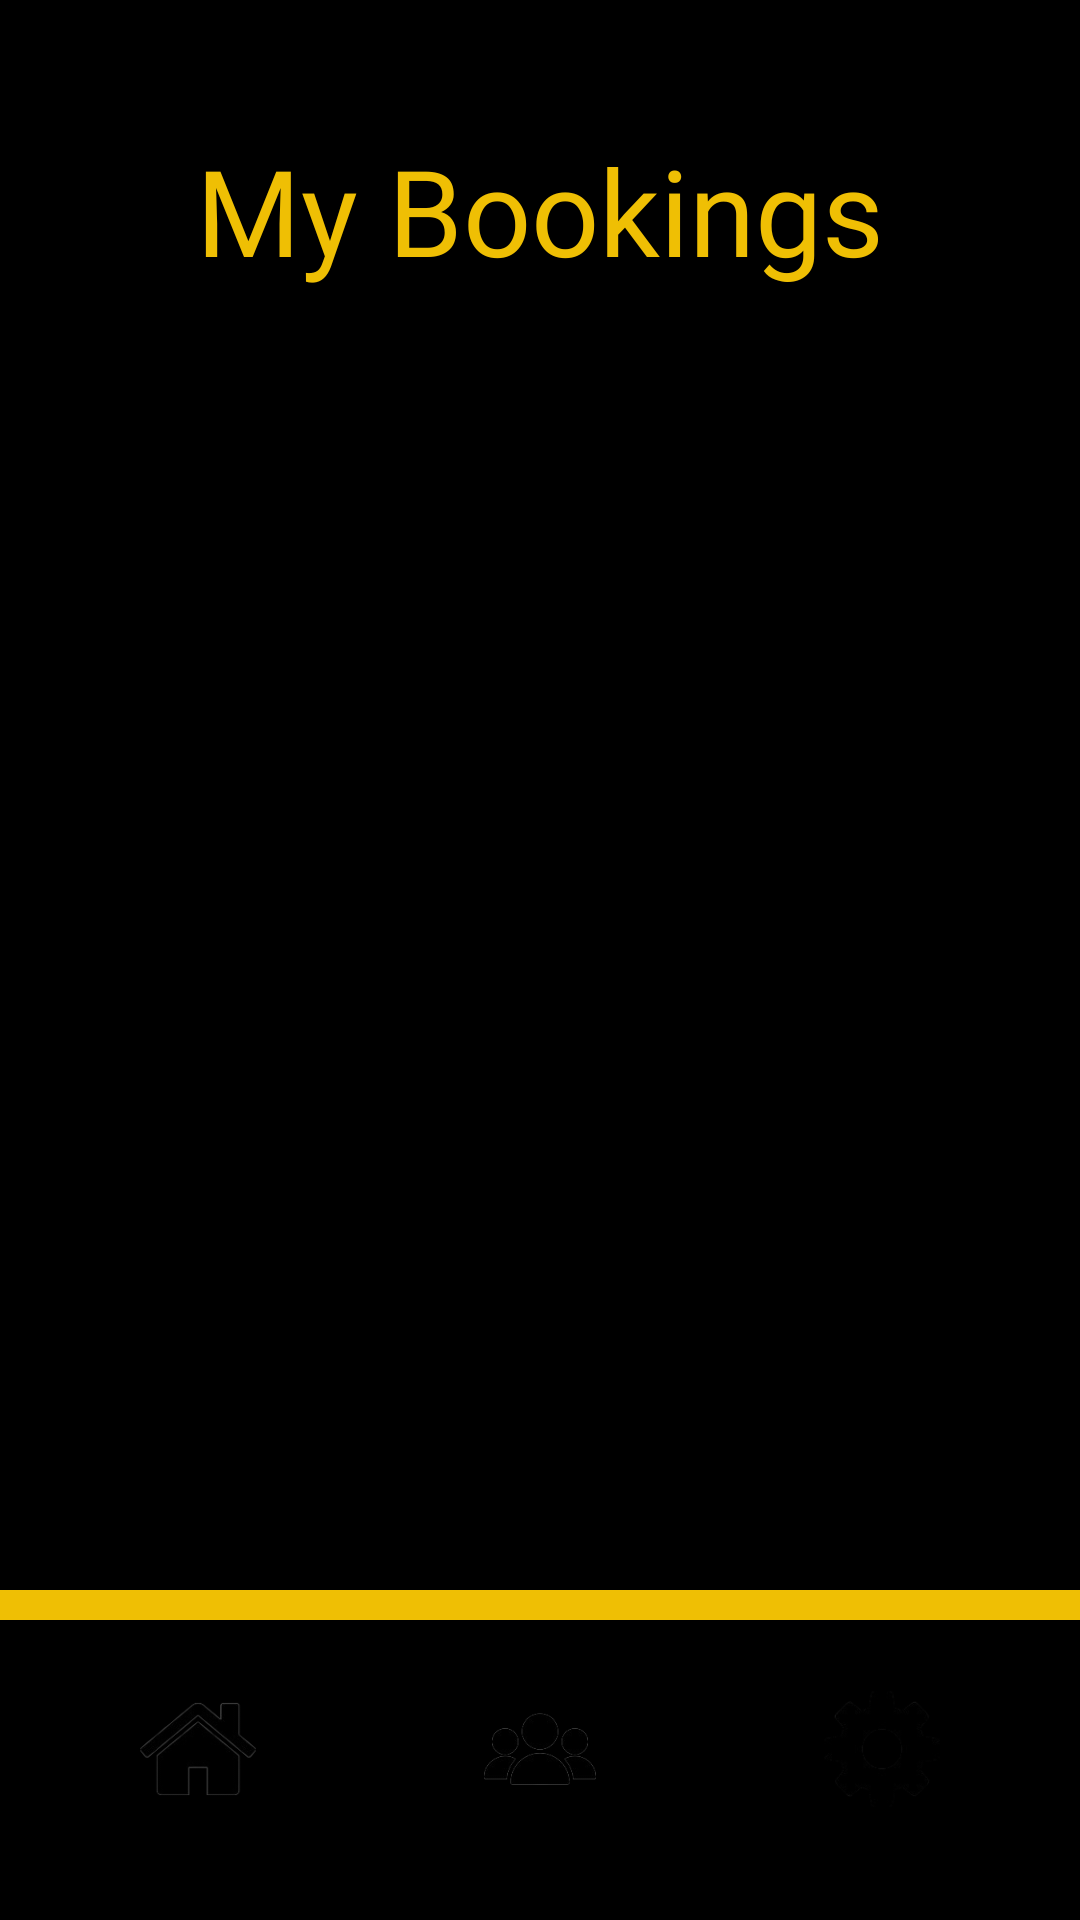

Locate icon controls on the screen. Image size 1080 x 1920, boxes as (x1, y1, x2, y2).
house: (140, 1703, 256, 1795)
staff: (484, 1713, 596, 1785)
